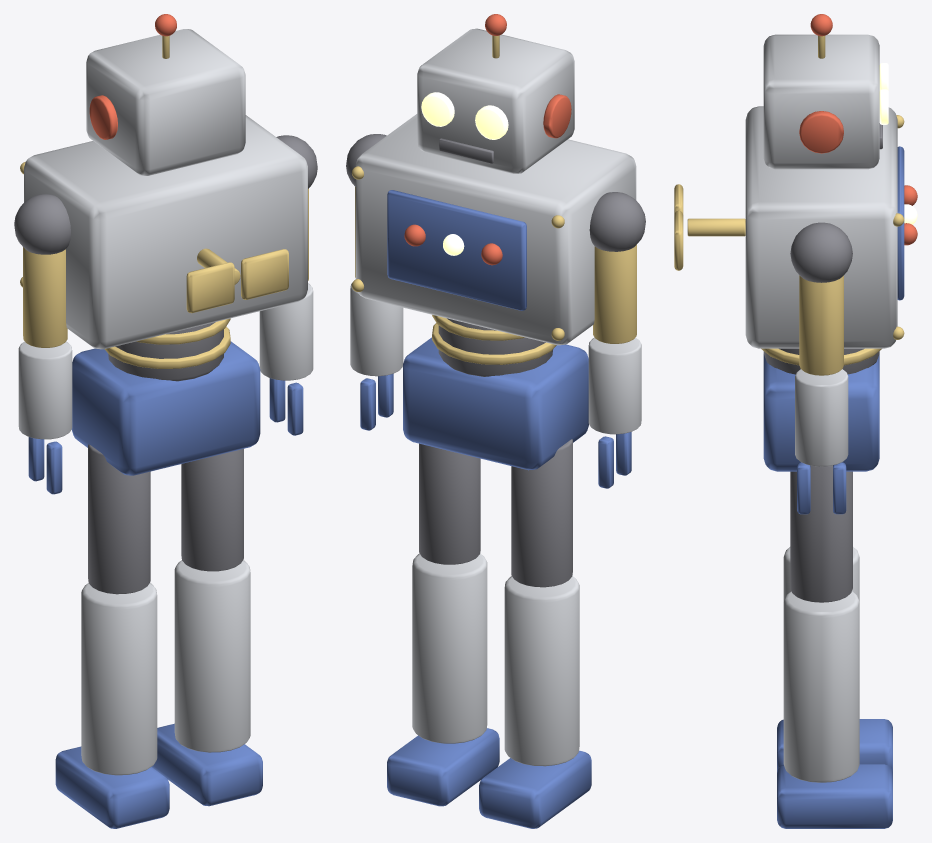
Rendered from robot.glb.
3 views of the same model, side by side, from view 1: azimuth 30°, elevation 25°; view 2: azimuth 150°, elevation 25°; view 3: azimuth 270°, elevation 25° (orthographic).
Parts seen in each view (by area): view 1: chest, head, hips, shin_r, shin_l, thigh_l, thigh_r, upper_arm_l, foot_l, foot_r, lower_arm_l, abdomen (+5 smaller); view 2: chest, head, hips, shin_r, shin_l, thigh_l, thigh_r, upper_arm_l, foot_l, foot_r, lower_arm_l, abdomen (+4 smaller); view 3: chest, head, shin_r, upper_arm_r, thigh_r, hips, foot_r, lower_arm_r, key, foot_l, abdomen, hand_r (+1 smaller).
Part boxes in pixels (x1=…): chest: x1=20, y1=115, x2=307, y2=349; head: x1=86, y1=14, x2=245, y2=175; hips: x1=71, y1=341, x2=260, y2=475; shin_r: x1=174, y1=560, x2=250, y2=752; shin_l: x1=81, y1=583, x2=157, y2=775; thigh_l: x1=88, y1=444, x2=150, y2=594; thigh_r: x1=181, y1=449, x2=243, y2=571; upper_arm_l: x1=14, y1=194, x2=70, y2=347; foot_l: x1=55, y1=746, x2=169, y2=828; foot_r: x1=151, y1=723, x2=262, y2=806; lower_arm_l: x1=18, y1=341, x2=72, y2=439; abdomen: x1=104, y1=318, x2=230, y2=381; chest: x1=352, y1=114, x2=636, y2=345; head: x1=417, y1=14, x2=574, y2=173; hips: x1=403, y1=337, x2=588, y2=470; shin_r: x1=412, y1=553, x2=487, y2=743; shin_l: x1=504, y1=576, x2=579, y2=766; thigh_l: x1=511, y1=439, x2=572, y2=587; thigh_r: x1=419, y1=443, x2=480, y2=564; upper_arm_l: x1=589, y1=192, x2=645, y2=343; foot_l: x1=479, y1=750, x2=591, y2=828; foot_r: x1=387, y1=728, x2=499, y2=806; lower_arm_l: x1=588, y1=337, x2=641, y2=434; abdomen: x1=432, y1=315, x2=556, y2=376; chest: x1=745, y1=106, x2=917, y2=348; head: x1=763, y1=14, x2=888, y2=169; shin_r: x1=783, y1=591, x2=859, y2=782; upper_arm_r: x1=790, y1=222, x2=852, y2=375; thigh_r: x1=790, y1=465, x2=852, y2=602; hips: x1=763, y1=354, x2=879, y2=471; foot_r: x1=777, y1=764, x2=892, y2=828; lower_arm_r: x1=795, y1=369, x2=848, y2=466; key: x1=674, y1=184, x2=745, y2=270; foot_l: x1=777, y1=719, x2=892, y2=772; abdomen: x1=761, y1=348, x2=881, y2=374; hand_r: x1=797, y1=462, x2=846, y2=514.
Size of the model in its own units: 0.76 by 1.92 by 0.545.
